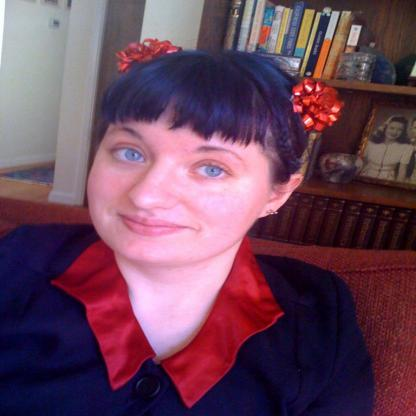book: (222, 0, 380, 84), (297, 128, 322, 180)
